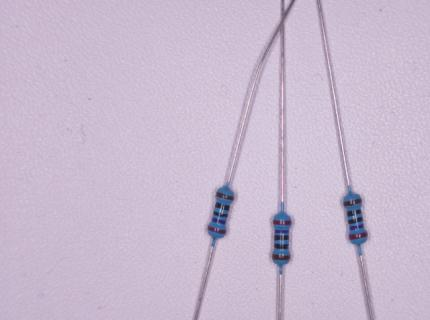Black band: (215, 202, 230, 211), (214, 210, 228, 218), (348, 217, 363, 224), (274, 243, 288, 250), (347, 209, 361, 216), (274, 235, 289, 241)
Brown band: (216, 192, 234, 200), (343, 199, 361, 206), (273, 255, 290, 260)
Red band: (208, 225, 226, 234), (349, 231, 367, 240), (273, 219, 292, 225)
Violet band: (211, 217, 226, 225), (350, 224, 364, 230), (275, 229, 289, 233)
